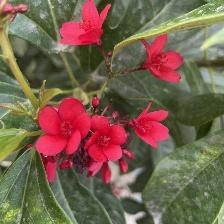jatropha: (39, 97, 92, 156)
